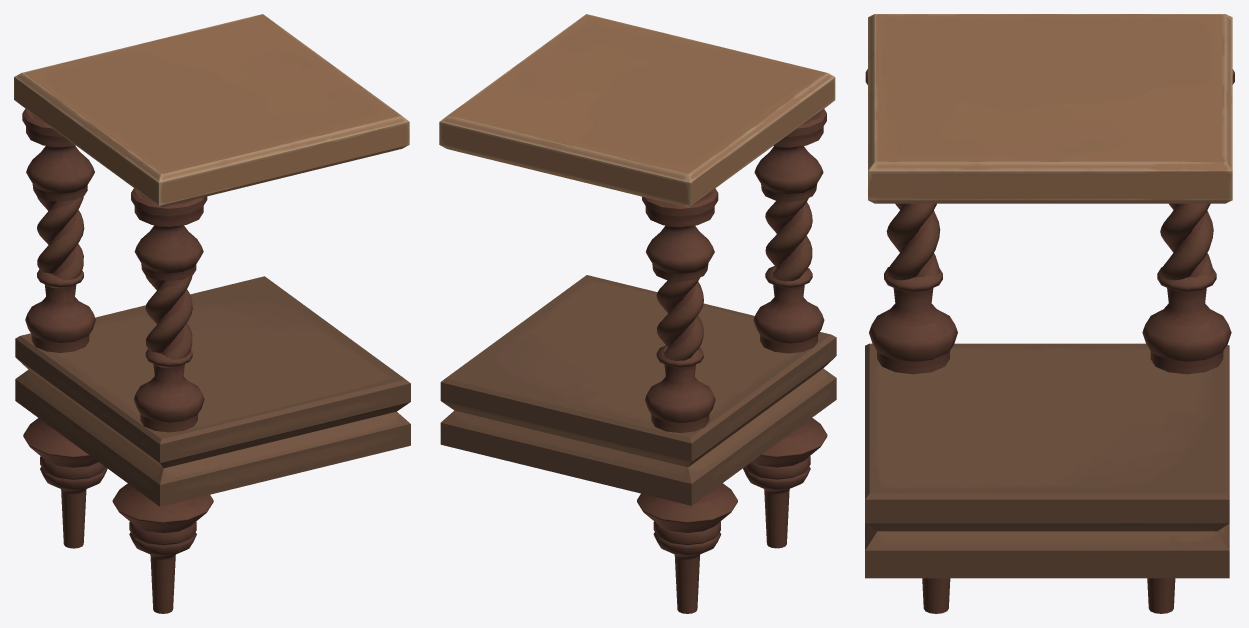
Rendered from TwoTierSquareCornerFoot.fbx.
The picture shows the model from 3 angles, left to right: view 1: azimuth 30°, elevation 25°; view 2: azimuth 150°, elevation 25°; view 3: azimuth 270°, elevation 25°; orthographic projection. The views are drawn at different scales.
Parts seen in each view (by area): view 1: BaseSquareCornerFoot, MiddleSquareCornerFoot, middleStickPart3 (×2), middleStickPart2 (×2), footStick (5), footStick (4), middleStickPart1 (5), middleStickPart1 (4); view 2: BaseSquareCornerFoot, MiddleSquareCornerFoot, middleStickPart3 (×2), middleStickPart2 (×2), footStick (4), footStick (5), middleStickPart1 (4), middleStickPart1 (5); view 3: BaseSquareCornerFoot, MiddleSquareCornerFoot, middleStickPart2 (×2), middleStickPart1 (4), middleStickPart1 (5), footStick (4), footStick (5).
Part boxes in pixels (<box>): BaseSquareCornerFoot: <box>15,276,410,506</box>; MiddleSquareCornerFoot: <box>14,14,409,207</box>; middleStickPart3 (×2): <box>22,108,207,281</box>; middleStickPart2 (×2): <box>37,196,192,367</box>; footStick (5): <box>112,483,213,613</box>; footStick (4): <box>23,418,107,548</box>; middleStickPart1 (5): <box>133,349,204,432</box>; middleStickPart1 (4): <box>25,269,95,352</box>; BaseSquareCornerFoot: <box>440,275,836,505</box>; MiddleSquareCornerFoot: <box>439,14,835,207</box>; middleStickPart3 (×2): <box>642,109,826,281</box>; middleStickPart2 (×2): <box>656,198,812,360</box>; footStick (4): <box>637,483,737,613</box>; footStick (5): <box>743,418,827,548</box>; middleStickPart1 (4): <box>645,345,715,432</box>; middleStickPart1 (5): <box>753,266,824,353</box>; BaseSquareCornerFoot: <box>865,343,1229,578</box>; MiddleSquareCornerFoot: <box>868,14,1232,203</box>; middleStickPart2 (×2): <box>886,203,1213,280</box>; middleStickPart1 (4): <box>1142,267,1231,374</box>; middleStickPart1 (5): <box>869,267,957,374</box>; footStick (4): <box>1147,578,1175,613</box>; footStick (5): <box>922,578,950,613</box>.
Size of the model in its own units: 4.2 by 7 by 4.06.
